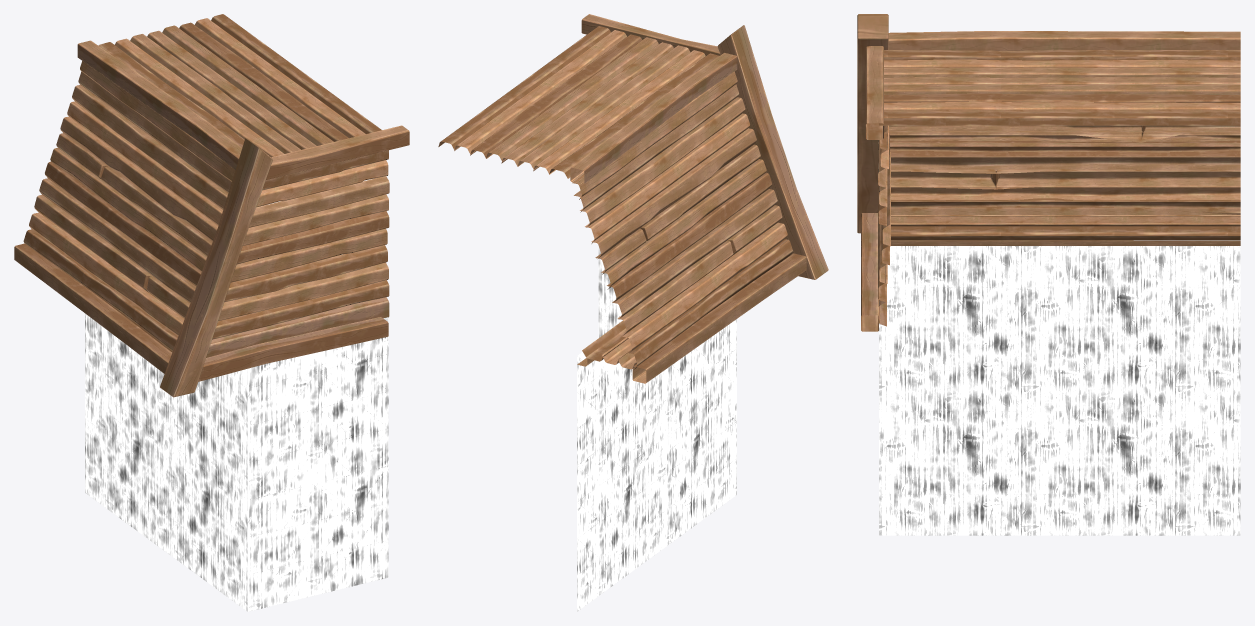
File: SM_BuildingBase_04.fbx
3 renders of one model, left to right at view 1: azimuth 30°, elevation 25°; view 2: azimuth 150°, elevation 25°; view 3: azimuth 270°, elevation 25°, orthographic. The views are drawn at different scales.
Parts seen in each view (by area): view 1: SM_BuildingBase_04_LOD0; view 2: SM_BuildingBase_04_LOD0; view 3: SM_BuildingBase_04_LOD0.
Boxes of the visible parts, x1,y1,x2,y2 form: SM_BuildingBase_04_LOD0: (14,14,409,611); SM_BuildingBase_04_LOD0: (438,14,828,611); SM_BuildingBase_04_LOD0: (857,14,1240,535).
Size of the model in its own units: 511 by 636 by 957.
3 materials, 3 textured.
